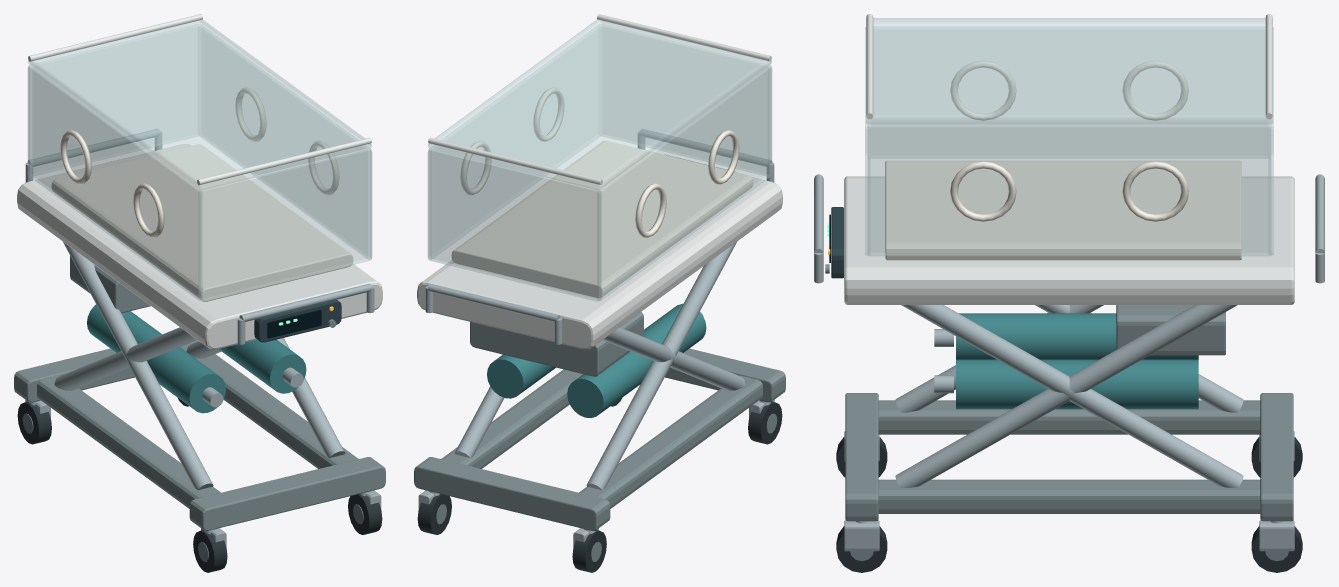
The model's file is transport-incubator.glb.
3 renders of one model, left to right at view 1: azimuth 30°, elevation 25°; view 2: azimuth 150°, elevation 25°; view 3: azimuth 270°, elevation 25°, orthographic. The views are drawn at different scales.
Parts seen in each view (by area): view 1: transport-incubator-batch (×6), transport-incubator, transparent-hood (×2); view 2: transport-incubator-batch (×6), transport-incubator, transparent-hood (×2); view 3: transport-incubator-batch (×6), transparent-hood (×2), transport-incubator.
Part boxes in pixels (bbox=[...]): transport-incubator-batch (×6): bbox=[14, 14, 385, 572]; transport-incubator: bbox=[28, 19, 371, 342]; transparent-hood (×2): bbox=[28, 24, 371, 300]; transport-incubator-batch (×6): bbox=[414, 14, 785, 572]; transport-incubator: bbox=[428, 19, 771, 301]; transparent-hood (×2): bbox=[428, 24, 771, 300]; transport-incubator-batch (×6): bbox=[814, 14, 1324, 572]; transparent-hood (×2): bbox=[868, 26, 1270, 255]; transport-incubator: bbox=[828, 18, 1273, 278].
Bounding box in the file's own units: 0.64 × 1.3 × 1.3.
